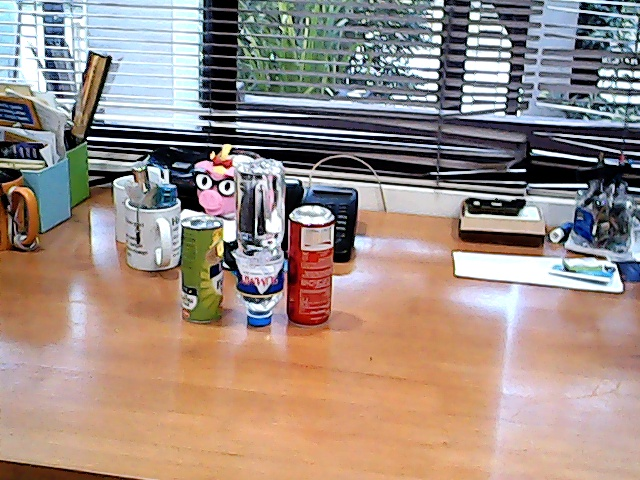Cola: (282, 194, 341, 340)
Pine Juice: (173, 204, 230, 331)
Summit Water: (229, 150, 294, 338)
